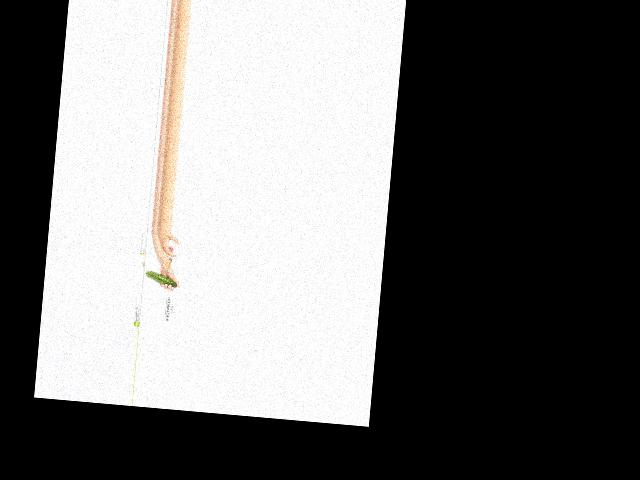cucumber: (144, 270, 177, 287)
